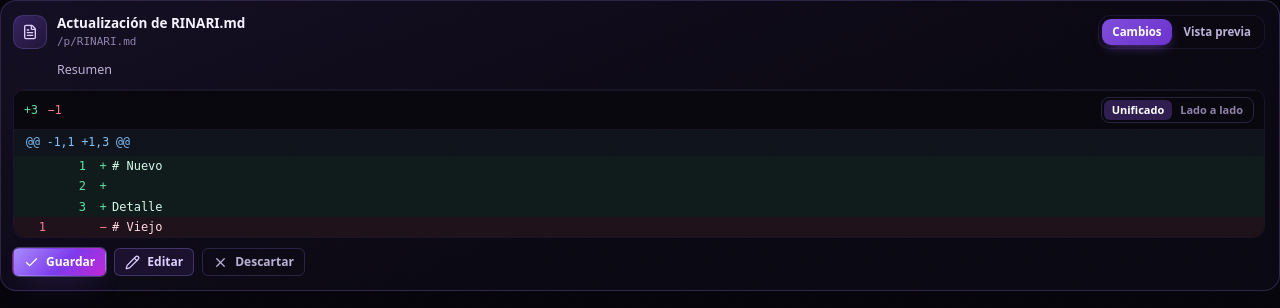
it: InstructionsProposalCard (#81) › «Descartar» writes nothing and says so
The width and height of the screenshot is (1280, 308).
Click the button with test id "instructions-proposal-discard": (254, 262) top-left (202, 248), bottom-right (305, 276)
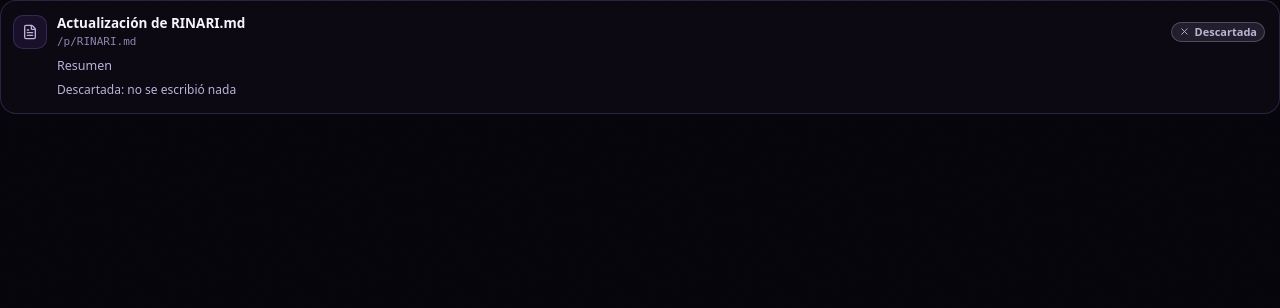
Now the message with test id "instructions-proposal-outcome" shows "no se escribió nada", box top-left (57, 81), bottom-right (236, 98)
